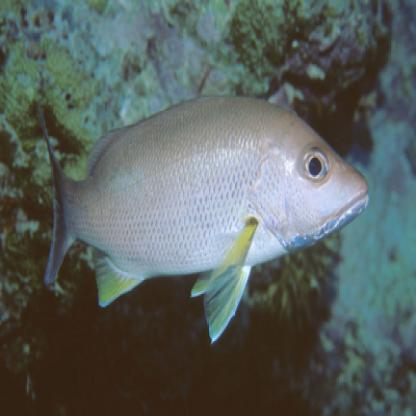Lutjanidae -Snappers-: (29, 84, 374, 350)
